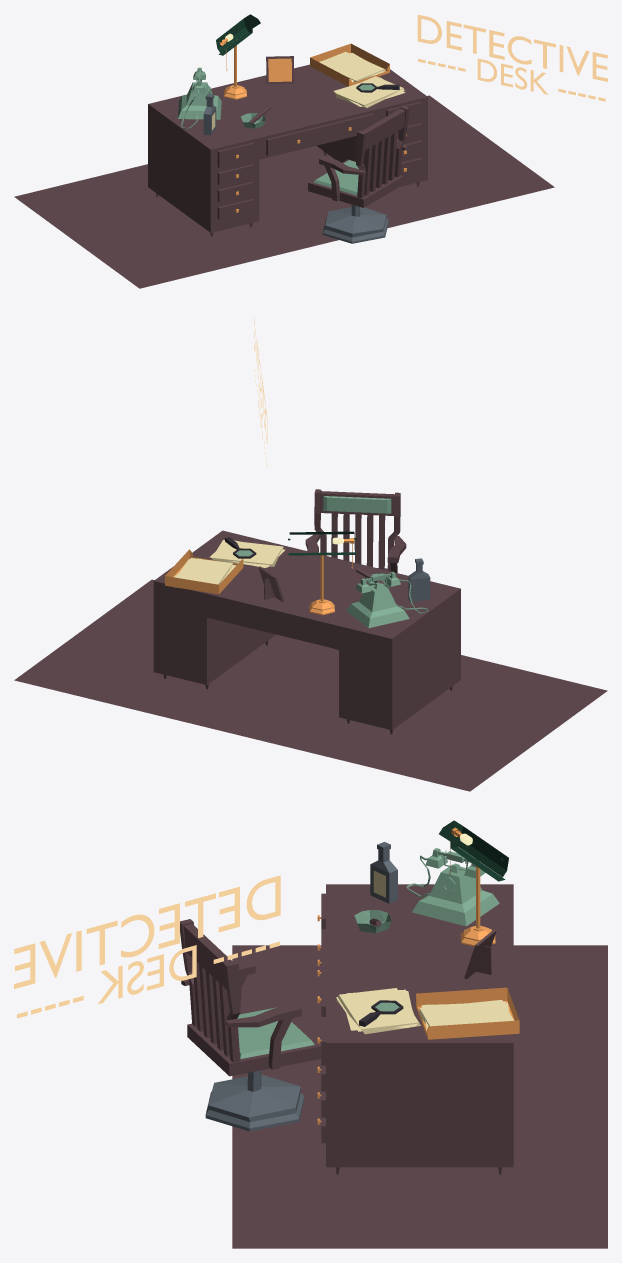
The model's file is Detective_Desk.glb.
3 views of the same model, one above another, from view 1: azimuth 30°, elevation 25°; view 2: azimuth 150°, elevation 25°; view 3: azimuth 270°, elevation 25° (orthographic). The views are drawn at different scales.
Visible parts, largest first — view 1: Carpet, Desk, Chair, Text, Phone, Lamp, Storage, Documents, Documents.001, Text.001, Photography_Frame, Alcohol; view 2: Carpet, Desk, Chair, Phone, Documents, Lamp, Storage, Documents.001, Alcohol; view 3: Carpet, Desk, Chair, Text, Phone, Storage, Lamp, Documents, Text.001, Documents.001, Alcohol, Photography_Frame (+1 smaller).
Boxes of the visible parts, box(x1,y1,x2,y2) form: Carpet: box(14, 95, 554, 288); Desk: box(148, 64, 427, 236); Chair: box(308, 105, 409, 243); Text: box(417, 14, 607, 81); Phone: box(177, 67, 221, 128); Lamp: box(216, 14, 260, 99); Storage: box(310, 43, 389, 86); Documents: box(334, 76, 405, 108); Documents.001: box(319, 51, 385, 83); Text.001: box(418, 58, 605, 101); Photography_Frame: box(266, 56, 294, 84); Alcohol: box(203, 94, 216, 135); Carpet: box(14, 579, 607, 791); Desk: box(153, 530, 460, 734); Chair: box(305, 489, 406, 650); Phone: box(346, 571, 428, 628); Documents: box(209, 540, 285, 567); Lamp: box(288, 531, 356, 615); Storage: box(165, 549, 243, 594); Documents.001: box(174, 558, 236, 587); Alcohol: box(408, 558, 430, 601); Carpet: box(232, 945, 607, 1248); Desk: box(317, 884, 513, 1174); Chair: box(180, 919, 321, 1131); Text: box(14, 875, 280, 988); Phone: box(406, 848, 499, 926); Storage: box(416, 987, 519, 1039); Lamp: box(439, 820, 508, 946); Documents: box(336, 988, 421, 1034); Text.001: box(17, 941, 279, 1018); Documents.001: box(418, 1000, 513, 1029); Alcohol: box(370, 842, 397, 903); Photography_Frame: box(464, 929, 496, 979).
Bounding box in the file's own units: 3.83 × 1.68 × 3.17.
14 materials, 12 textured.
